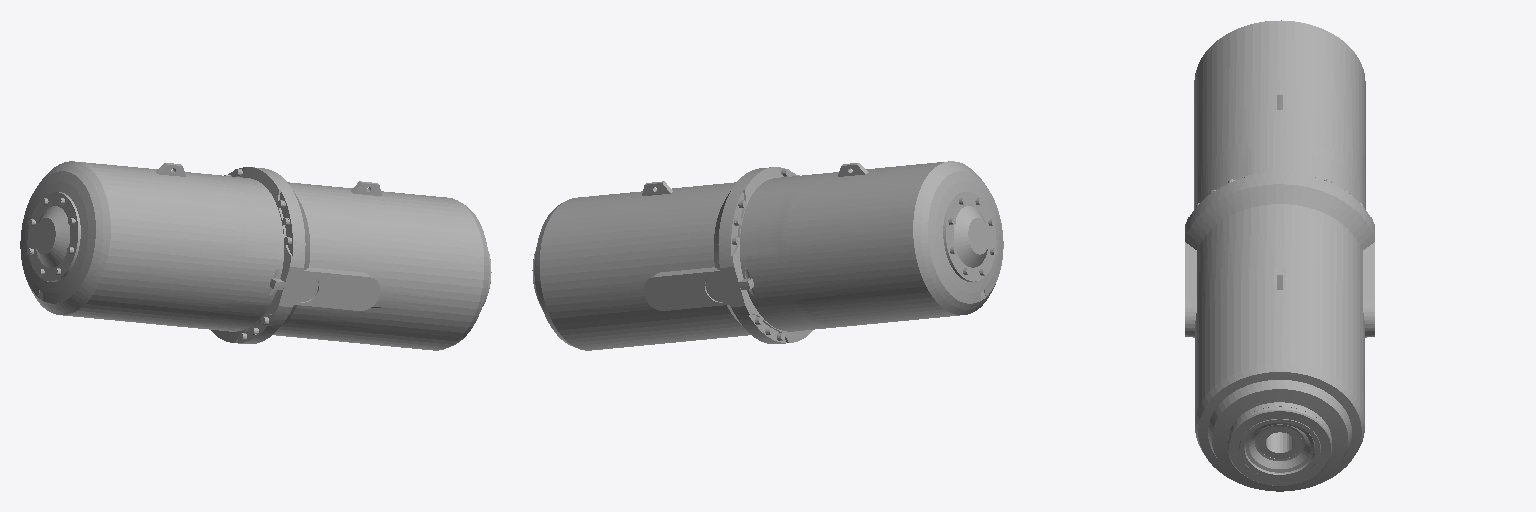
The robot description file, URDF, robot "IRB6750S_185-390-LID":
<?xml version="1.0" ?>
<robot name="IRB6750S_185-390-LID">

<link name="base_link">
  <inertial>
    <origin xyz="-0.11451110959592517 0.00015552070287478797 0.1370499382307424" rpy="0 0 0"/>
    <mass value="903.853880323414"/>
    <inertia ixx="32.499935" iyy="61.22909" izz="80.940564" ixy="-0.237684" iyz="-0.063313" ixz="-2.544137"/>
  </inertial>
  <visual>
    <origin xyz="0 0 0" rpy="0 0 0"/>
    <geometry>
      <mesh filename="package://IRB6750S_185-390-LID_description/meshes/base_link.stl" scale="0.001 0.001 0.001"/>
    </geometry>
    <material name="silver"/>
  </visual>
  <collision>
    <origin xyz="0 0 0" rpy="0 0 0"/>
    <geometry>
      <mesh filename="package://IRB6750S_185-390-LID_description/meshes/base_link.stl" scale="0.001 0.001 0.001"/>
    </geometry>
  </collision>
</link>

<link name="IRB6750S_All_OC_00_LINK01_CAD_v1_1">
  <inertial>
    <origin xyz="0.30056558171836834 0.021248402558967868 0.1547641012631446" rpy="0 0 0"/>
    <mass value="855.1080095158879"/>
    <inertia ixx="35.394342" iyy="118.27198" izz="127.13701" ixy="-4.815187" iyz="-0.508123" ixz="-6.856775"/>
  </inertial>
  <visual>
    <origin xyz="-0.0 -0.0 -0.342" rpy="0 0 0"/>
    <geometry>
      <mesh filename="package://IRB6750S_185-390-LID_description/meshes/IRB6750S_All_OC_00_LINK01_CAD_v1_1.stl" scale="0.001 0.001 0.001"/>
    </geometry>
    <material name="silver"/>
  </visual>
  <collision>
    <origin xyz="-0.0 -0.0 -0.342" rpy="0 0 0"/>
    <geometry>
      <mesh filename="package://IRB6750S_185-390-LID_description/meshes/IRB6750S_All_OC_00_LINK01_CAD_v1_1.stl" scale="0.001 0.001 0.001"/>
    </geometry>
  </collision>
</link>

<link name="IRB6750S_All_OC_00_LINK02_CAD_v1_1">
  <inertial>
    <origin xyz="0.04918203899572493 -0.12406941666076196 0.5996272377119412" rpy="0 0 0"/>
    <mass value="745.7860274622177"/>
    <inertia ixx="93.69397" iyy="99.688003" izz="13.769974" ixy="0.085665" iyz="7.121199" ixz="2.43981"/>
  </inertial>
  <visual>
    <origin xyz="-0.69 0.1535 -0.53" rpy="0 0 0"/>
    <geometry>
      <mesh filename="package://IRB6750S_185-390-LID_description/meshes/IRB6750S_All_OC_00_LINK02_CAD_v1_1.stl" scale="0.001 0.001 0.001"/>
    </geometry>
    <material name="silver"/>
  </visual>
  <collision>
    <origin xyz="-0.69 0.1535 -0.53" rpy="0 0 0"/>
    <geometry>
      <mesh filename="package://IRB6750S_185-390-LID_description/meshes/IRB6750S_All_OC_00_LINK02_CAD_v1_1.stl" scale="0.001 0.001 0.001"/>
    </geometry>
  </collision>
</link>

<link name="IRB6750S_All_OC_00_LINK03_CAD_v1_1">
  <inertial>
    <origin xyz="-0.06362244557400576 0.2677319074005557 0.12348214168445226" rpy="0 0 0"/>
    <mass value="497.1042094540328"/>
    <inertia ixx="21.136416" iyy="18.108991" izz="22.242741" ixy="3.611816" iyz="-4.495566" ixz="2.934471"/>
  </inertial>
  <visual>
    <origin xyz="-0.69 0.265 -1.81" rpy="0 0 0"/>
    <geometry>
      <mesh filename="package://IRB6750S_185-390-LID_description/meshes/IRB6750S_All_OC_00_LINK03_CAD_v1_1.stl" scale="0.001 0.001 0.001"/>
    </geometry>
    <material name="silver"/>
  </visual>
  <collision>
    <origin xyz="-0.69 0.265 -1.81" rpy="0 0 0"/>
    <geometry>
      <mesh filename="package://IRB6750S_185-390-LID_description/meshes/IRB6750S_All_OC_00_LINK03_CAD_v1_1.stl" scale="0.001 0.001 0.001"/>
    </geometry>
  </collision>
</link>

<link name="IRB6750S_All-390_OC_00_LINK04_CAD_v1_1">
  <inertial>
    <origin xyz="0.85814389619885 -0.00902975190144566 -8.577655973951437e-06" rpy="0 0 0"/>
    <mass value="593.0820849974"/>
    <inertia ixx="6.499506" iyy="229.860615" izz="232.707543" ixy="3.794376" iyz="0.001295" ixz="-0.011304"/>
  </inertial>
  <visual>
    <origin xyz="-0.977 -0.0 -2.01" rpy="0 0 0"/>
    <geometry>
      <mesh filename="package://IRB6750S_185-390-LID_description/meshes/IRB6750S_All-390_OC_00_LINK04_CAD_v1_1.stl" scale="0.001 0.001 0.001"/>
    </geometry>
    <material name="silver"/>
  </visual>
  <collision>
    <origin xyz="-0.977 -0.0 -2.01" rpy="0 0 0"/>
    <geometry>
      <mesh filename="package://IRB6750S_185-390-LID_description/meshes/IRB6750S_All-390_OC_00_LINK04_CAD_v1_1.stl" scale="0.001 0.001 0.001"/>
    </geometry>
  </collision>
</link>

<link name="IRB6750S_All-390_OC_00_LINK05_CAD_v1_1">
  <inertial>
    <origin xyz="0.029405294014649197 -0.09016204252523362 -0.00228749066184486" rpy="0 0 0"/>
    <mass value="45.71412672440309"/>
    <inertia ixx="0.188991" iyy="0.431794" izz="0.47138" ixy="0.019118" iyz="0.004126" ixz="0.007646"/>
  </inertial>
  <visual>
    <origin xyz="-2.6125 -0.095 -2.01" rpy="0 0 0"/>
    <geometry>
      <mesh filename="package://IRB6750S_185-390-LID_description/meshes/IRB6750S_All-390_OC_00_LINK05_CAD_v1_1.stl" scale="0.001 0.001 0.001"/>
    </geometry>
    <material name="silver"/>
  </visual>
  <collision>
    <origin xyz="-2.6125 -0.095 -2.01" rpy="0 0 0"/>
    <geometry>
      <mesh filename="package://IRB6750S_185-390-LID_description/meshes/IRB6750S_All-390_OC_00_LINK05_CAD_v1_1.stl" scale="0.001 0.001 0.001"/>
    </geometry>
  </collision>
</link>

<link name="IRB6750S-LID_185kg-390_OC_00_LINK06_CABLE_v1_1">
  <inertial>
    <origin xyz="0.09180442966014457 -0.0173386239495099 -0.002426976727571084" rpy="0 0 0"/>
    <mass value="29.063646140411308"/>
    <inertia ixx="0.165791" iyy="0.188207" izz="0.182075" ixy="0.002423" iyz="0.003303" ixz="-0.003067"/>
  </inertial>
  <visual>
    <origin xyz="-2.7775 -0.0 -2.01" rpy="0 0 0"/>
    <geometry>
      <mesh filename="package://IRB6750S_185-390-LID_description/meshes/IRB6750S-LID_185kg-390_OC_00_LINK06_CABLE_v1_1.stl" scale="0.001 0.001 0.001"/>
    </geometry>
    <material name="silver"/>
  </visual>
  <collision>
    <origin xyz="-2.7775 -0.0 -2.01" rpy="0 0 0"/>
    <geometry>
      <mesh filename="package://IRB6750S_185-390-LID_description/meshes/IRB6750S-LID_185kg-390_OC_00_LINK06_CABLE_v1_1.stl" scale="0.001 0.001 0.001"/>
    </geometry>
  </collision>
</link>

<link name="IRB6750S_All_OC_00_CYL_CAD_v1_1">
  <inertial>
    <origin xyz="-0.020954995916233676 -0.19600000010635882 0.0068812405974623125" rpy="0 0 0"/>
    <mass value="891.4689007968218"/>
    <inertia ixx="23.108733" iyy="100.393696" izz="92.405514" ixy="-0.0" iyz="-0.0" ixz="25.175647"/>
  </inertial>
  <visual>
    <origin xyz="0.242035 0.0355 -0.832837" rpy="0 0 0"/>
    <geometry>
      <mesh filename="package://IRB6750S_185-390-LID_description/meshes/IRB6750S_All_OC_00_CYL_CAD_v1_1.stl" scale="0.001 0.001 0.001"/>
    </geometry>
    <material name="silver"/>
  </visual>
  <collision>
    <origin xyz="0.242035 0.0355 -0.832837" rpy="0 0 0"/>
    <geometry>
      <mesh filename="package://IRB6750S_185-390-LID_description/meshes/IRB6750S_All_OC_00_CYL_CAD_v1_1.stl" scale="0.001 0.001 0.001"/>
    </geometry>
  </collision>
</link>

<joint name="j1" type="continuous">
  <origin xyz="0.0 0.0 0.342" rpy="0 0 0"/>
  <parent link="base_link"/>
  <child link="IRB6750S_All_OC_00_LINK01_CAD_v1_1"/>
  <axis xyz="0.0 0.0 1.0"/>
</joint>

<joint name="j2" type="continuous">
  <origin xyz="0.69 -0.1535 0.188" rpy="0 0 0"/>
  <parent link="IRB6750S_All_OC_00_LINK01_CAD_v1_1"/>
  <child link="IRB6750S_All_OC_00_LINK02_CAD_v1_1"/>
  <axis xyz="0.0 -1.0 0.0"/>
</joint>

<joint name="j3" type="continuous">
  <origin xyz="0.0 -0.1115 1.28" rpy="0 0 0"/>
  <parent link="IRB6750S_All_OC_00_LINK02_CAD_v1_1"/>
  <child link="IRB6750S_All_OC_00_LINK03_CAD_v1_1"/>
  <axis xyz="0.0 1.0 0.0"/>
</joint>

<joint name="j4" type="continuous">
  <origin xyz="0.287 0.265 0.2" rpy="0 0 0"/>
  <parent link="IRB6750S_All_OC_00_LINK03_CAD_v1_1"/>
  <child link="IRB6750S_All-390_OC_00_LINK04_CAD_v1_1"/>
  <axis xyz="1.0 0.0 0.0"/>
</joint>

<joint name="j5" type="continuous">
  <origin xyz="1.6355 0.095 0.0" rpy="0 0 0"/>
  <parent link="IRB6750S_All-390_OC_00_LINK04_CAD_v1_1"/>
  <child link="IRB6750S_All-390_OC_00_LINK05_CAD_v1_1"/>
  <axis xyz="-0.0 -1.0 -0.0"/>
</joint>

<joint name="j6" type="continuous">
  <origin xyz="0.165 -0.095 0.0" rpy="0 0 0"/>
  <parent link="IRB6750S_All-390_OC_00_LINK05_CAD_v1_1"/>
  <child link="IRB6750S-LID_185kg-390_OC_00_LINK06_CABLE_v1_1"/>
  <axis xyz="1.0 0.0 0.0"/>
</joint>

<joint name="counter cylinder" type="revolute">
  <origin xyz="-0.242035 -0.0355 0.490837" rpy="0 0 0"/>
  <parent link="IRB6750S_All_OC_00_LINK01_CAD_v1_1"/>
  <child link="IRB6750S_All_OC_00_CYL_CAD_v1_1"/>
  <axis xyz="0.0 -1.0 0.0"/>
  <limit upper="0.0" lower="0.0" effort="100" velocity="100"/>
</joint>

</robot>

--- What the picture shows (computed from the rendered views, not written in the file) ---
Views: 3 orthographic renders of the robot side by side, from view 1: azimuth 30°, elevation 25°; view 2: azimuth 150°, elevation 25°; view 3: azimuth 270°, elevation 25°.
Robot: IRB6750S_185-390-LID — 8 links, 7 joints (1 revolute, 6 continuous); root link base_link; default pose: all joints at 0.
Visible links, largest first — view 1: IRB6750S_All_OC_00_CYL_CAD_v1_1; view 2: IRB6750S_All_OC_00_CYL_CAD_v1_1; view 3: IRB6750S_All_OC_00_CYL_CAD_v1_1.
Boxes of the visible links, <box> form: IRB6750S_All_OC_00_CYL_CAD_v1_1: <box>20,161,491,350</box>; IRB6750S_All_OC_00_CYL_CAD_v1_1: <box>532,161,1003,350</box>; IRB6750S_All_OC_00_CYL_CAD_v1_1: <box>1185,20,1374,491</box>.
Size in the robot's own frame: 1.18 by 0.4 by 0.668 metres.
1 mesh visuals loaded from 8 distinct referenced files (1 binary STL); not drawn: 7 (reference not matched to a file when rendering).